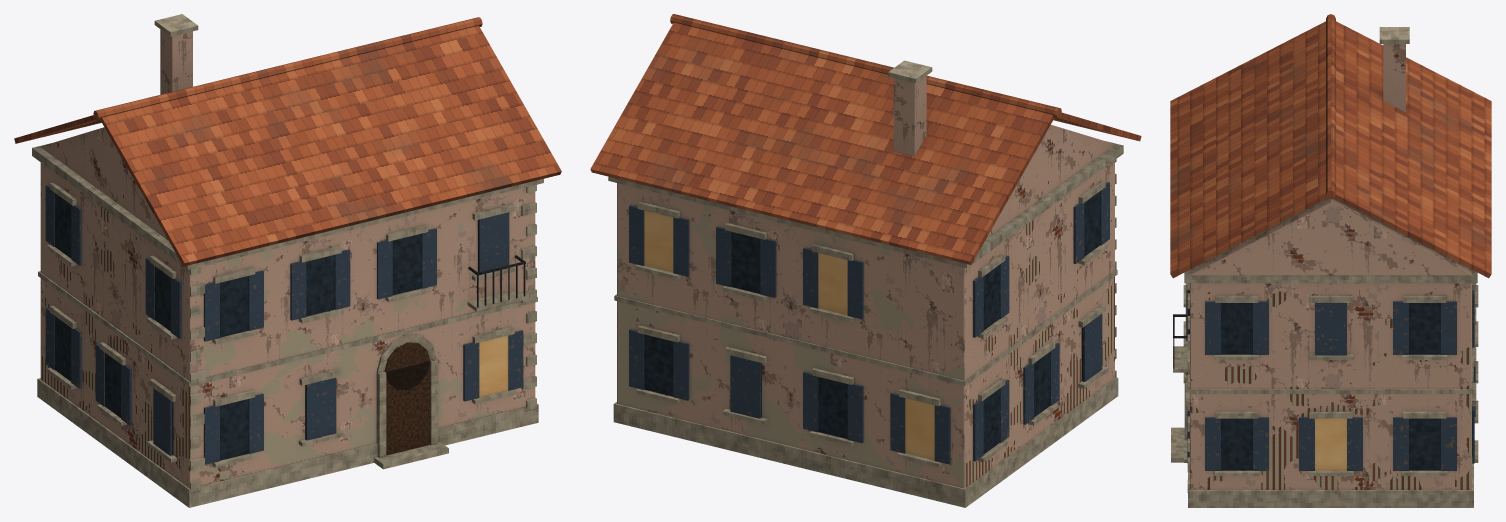
The model's file is siracusa_house_c.glb.
The picture shows the model from 3 angles, left to right: view 1: azimuth 30°, elevation 25°; view 2: azimuth 150°, elevation 25°; view 3: azimuth 270°, elevation 25°; orthographic projection. The views are drawn at different scales.
Visible parts, largest first — view 1: siracusa_house_c; view 2: siracusa_house_c; view 3: siracusa_house_c.
Part boxes in pixels (bbox=[...]): siracusa_house_c: bbox=[14, 14, 561, 507]; siracusa_house_c: bbox=[590, 14, 1141, 507]; siracusa_house_c: bbox=[1170, 14, 1491, 507].
Size of the model in its own units: 11.1 by 10.52 by 8.54.
8 materials, 8 textured.
